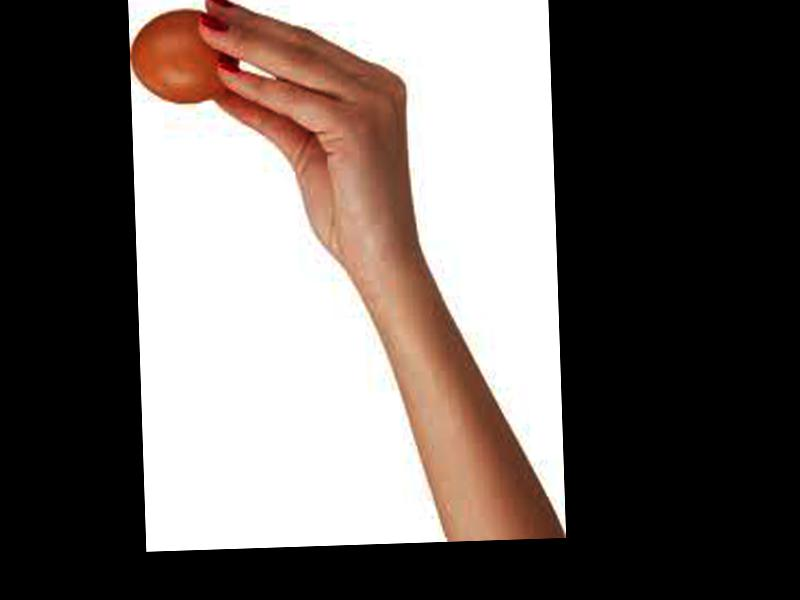Eggs: (130, 7, 236, 105)
